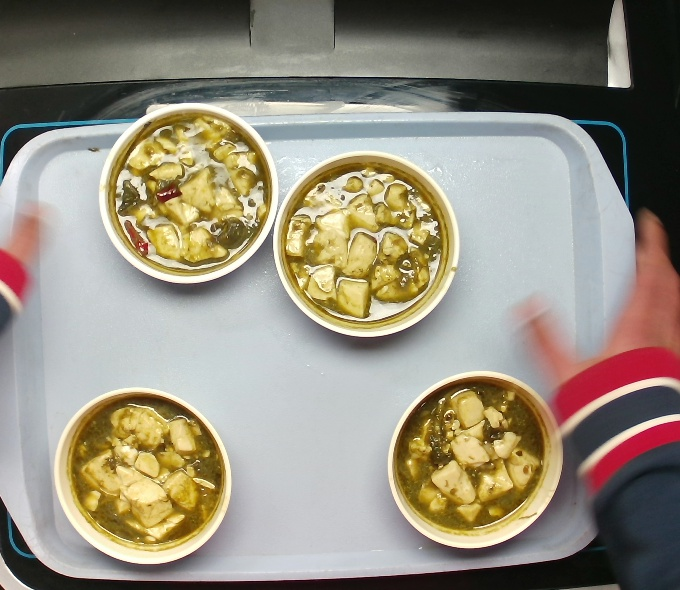wcq-SuanCaiDouFu: (278, 158, 451, 327), (105, 109, 272, 274), (66, 390, 226, 550), (393, 378, 549, 534)
